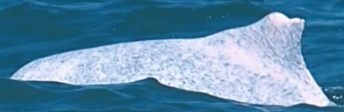fin: (5, 6, 336, 109)
